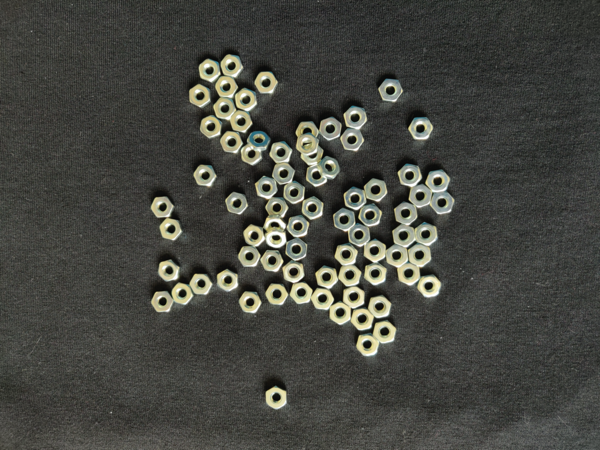nut: (425, 169, 451, 193), (254, 71, 279, 95), (392, 224, 416, 249), (368, 295, 392, 320), (408, 117, 434, 140), (341, 128, 365, 152), (317, 156, 341, 180), (409, 184, 433, 208), (364, 179, 388, 203), (397, 262, 421, 286), (379, 79, 404, 102), (398, 164, 423, 187), (430, 191, 455, 214), (356, 333, 379, 358), (221, 54, 244, 78), (215, 76, 239, 99), (200, 115, 223, 139), (230, 110, 253, 134), (344, 106, 368, 129), (300, 143, 324, 166), (160, 218, 184, 241), (395, 202, 418, 226), (415, 222, 438, 246), (344, 187, 367, 211), (364, 239, 387, 263), (290, 282, 314, 305), (408, 244, 432, 267), (418, 275, 442, 298), (315, 266, 339, 289), (373, 321, 397, 344), (199, 58, 221, 83), (349, 223, 371, 248), (221, 131, 244, 154), (272, 163, 295, 186), (359, 204, 382, 227), (239, 291, 262, 314), (335, 243, 358, 266), (320, 117, 342, 141), (151, 196, 175, 218), (302, 196, 324, 220), (334, 208, 356, 232), (265, 227, 289, 249), (286, 238, 308, 262), (260, 251, 284, 273), (311, 288, 335, 310), (330, 301, 352, 325), (266, 386, 287, 411), (190, 85, 212, 108), (214, 98, 237, 120), (296, 122, 319, 144), (296, 132, 318, 155), (306, 164, 328, 187), (270, 141, 293, 163), (194, 165, 217, 187), (226, 192, 248, 215), (159, 259, 181, 282), (256, 176, 278, 199), (243, 225, 266, 247), (172, 283, 195, 305), (217, 269, 239, 292), (365, 263, 387, 286), (339, 265, 362, 287), (351, 309, 374, 331), (284, 181, 305, 205), (387, 244, 408, 268), (241, 144, 263, 166), (287, 215, 309, 237), (239, 246, 261, 268), (283, 261, 305, 283), (236, 88, 257, 111), (266, 197, 289, 218), (190, 274, 213, 295), (266, 284, 289, 305), (344, 286, 365, 309), (152, 291, 174, 312), (248, 131, 271, 151), (263, 215, 287, 234)
